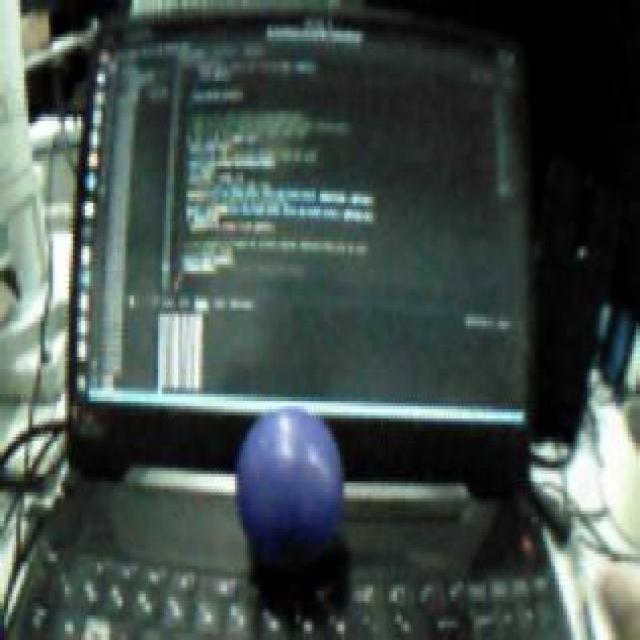BallPurple: (237, 411, 343, 564)
